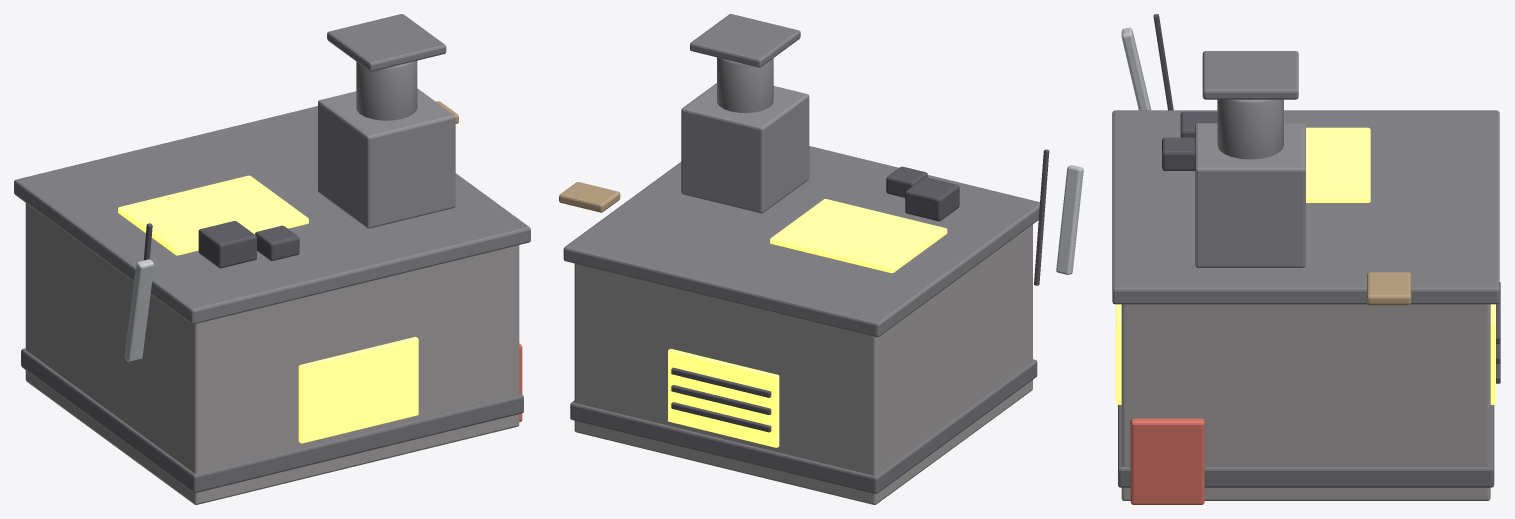
The model's file is печь.glb.
3 renders of one model, left to right at view 1: azimuth 30°, elevation 25°; view 2: azimuth 150°, elevation 25°; view 3: azimuth 270°, elevation 25°, orthographic. The views are drawn at different scales.
Visible parts, largest first — view 1: печь; view 2: печь; view 3: печь.
Boxes of the visible parts, x1=… form: печь: x1=14, y1=14, x2=530, y2=504; печь: x1=559, y1=14, x2=1083, y2=504; печь: x1=1112, y1=14, x2=1500, y2=504.
Bounding box in the file's own units: 2.93 × 2.35 × 2.1.
